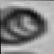correct: (0, 2, 48, 46)
